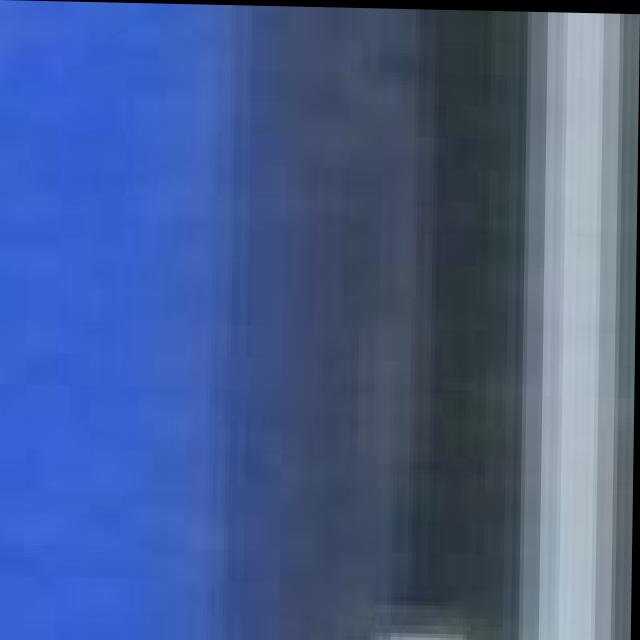potentiometer: (0, 0, 584, 640)
